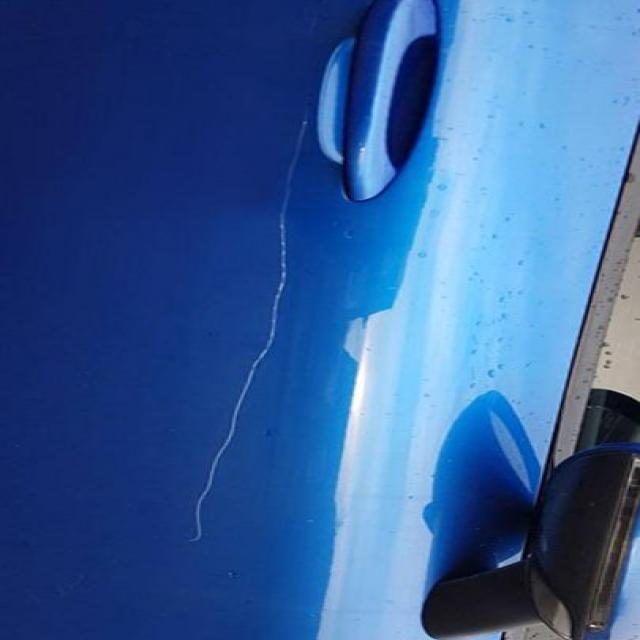scratch: (164, 115, 326, 553)
